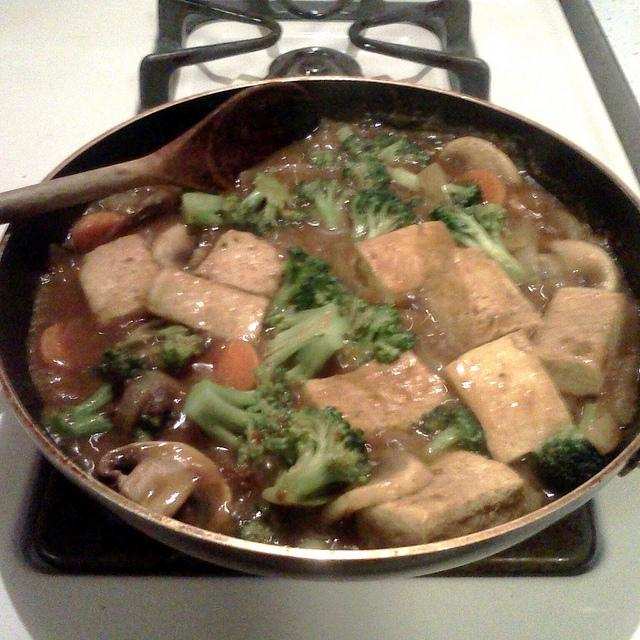broccoli: (262, 406, 372, 506), (184, 380, 297, 472), (49, 346, 142, 441), (258, 305, 349, 389), (432, 202, 526, 281), (264, 247, 348, 320), (220, 172, 309, 234), (118, 319, 206, 376), (340, 304, 418, 364), (534, 438, 610, 494), (295, 178, 359, 230), (418, 406, 487, 454), (350, 192, 418, 240), (342, 152, 392, 193), (130, 412, 180, 444), (441, 181, 483, 207)
carrot: (194, 341, 259, 392), (61, 210, 127, 253), (39, 319, 80, 372), (454, 168, 507, 208)
mushroom: (98, 442, 234, 530), (322, 448, 437, 528), (111, 370, 182, 446), (544, 239, 621, 292), (88, 184, 182, 227), (440, 136, 522, 183), (611, 355, 640, 429), (450, 170, 505, 206), (152, 224, 194, 270)
